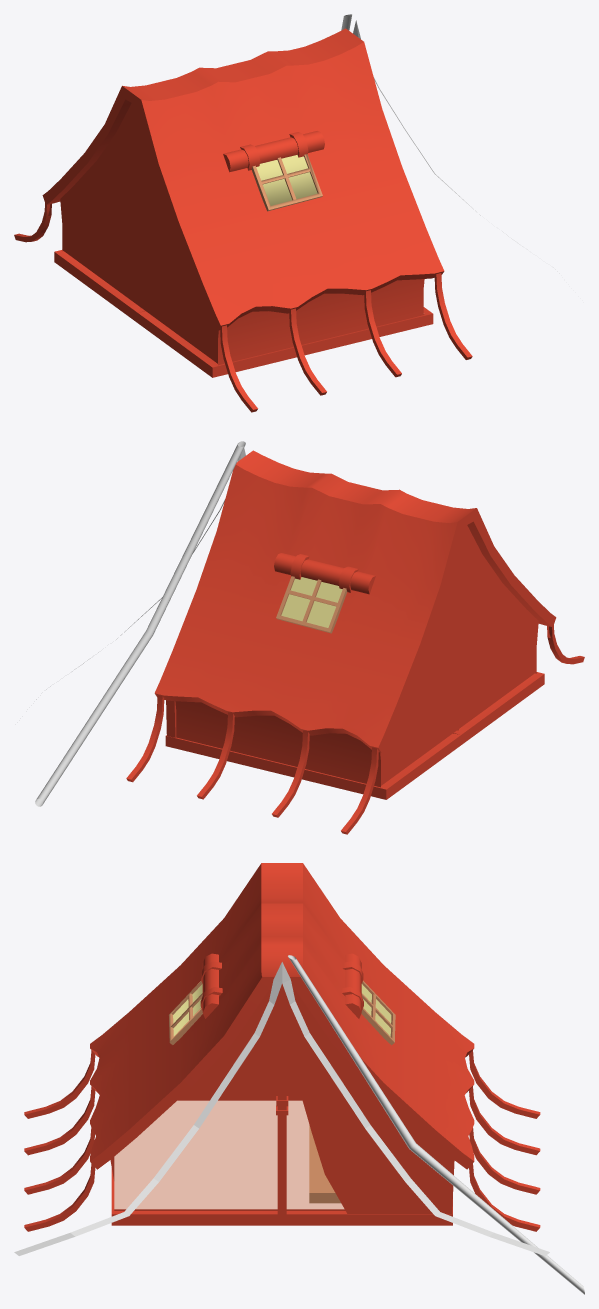
Rendered from tent.fbx.
The picture shows the model from 3 angles, top to bottom: view 1: azimuth 30°, elevation 25°; view 2: azimuth 150°, elevation 25°; view 3: azimuth 270°, elevation 25°; orthographic projection. The views are drawn at different scales.
Visible parts, largest first — view 1: tent type BIG, Cube.002, Cylinder; view 2: tent type BIG, NurbsCurve, Cube.002, Cylinder; view 3: tent type BIG, Plane.004, Plane.001, NurbsCurve, Cube.002, Cylinder, Cube.003.
Part boxes in pixels (box(x1,y1,x2,y2)): tent type BIG: box(14, 28, 472, 412); Cube.002: box(251, 154, 322, 211); Cylinder: box(223, 131, 324, 172); tent type BIG: box(126, 450, 584, 834); NurbsCurve: box(35, 441, 245, 806); Cube.002: box(276, 576, 347, 633); Cylinder: box(274, 553, 375, 594); tent type BIG: box(24, 863, 540, 1231); Plane.004: box(291, 990, 454, 1213); Plane.001: box(14, 962, 549, 1255); NurbsCurve: box(288, 955, 584, 1294); Cube.002: box(168, 980, 395, 1045); Cylinder: box(200, 953, 363, 1018); Cube.003: box(309, 1125, 340, 1203).
Bounding box in the file's own units: 7.21 × 5.85 × 9.98.
